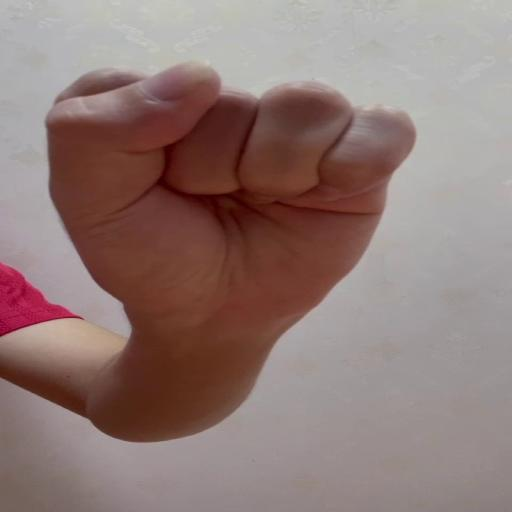fist: (45, 56, 418, 314)
